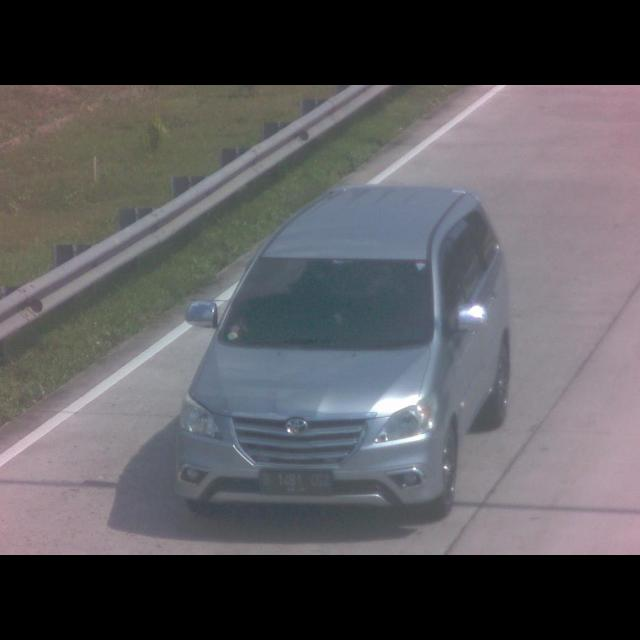plate: (257, 464, 336, 500)
